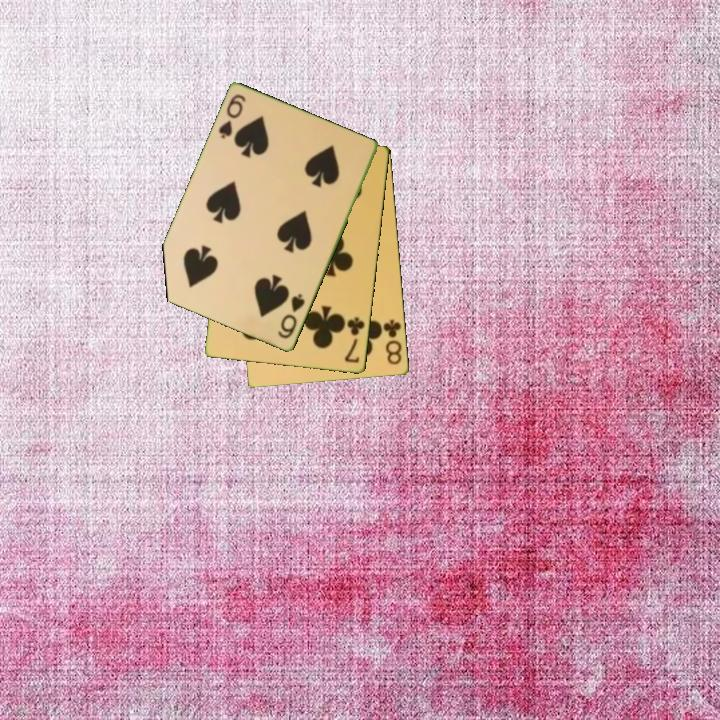6s: (274, 290, 308, 342), (215, 91, 249, 142)
7c: (341, 314, 368, 366)
8c: (380, 316, 405, 368)
